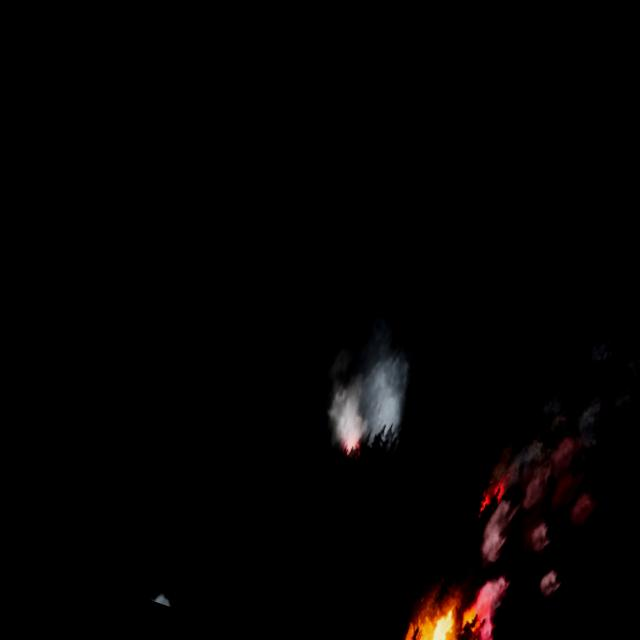fire: (380, 589, 489, 640)
smoke: (439, 356, 632, 640), (310, 334, 426, 466)
